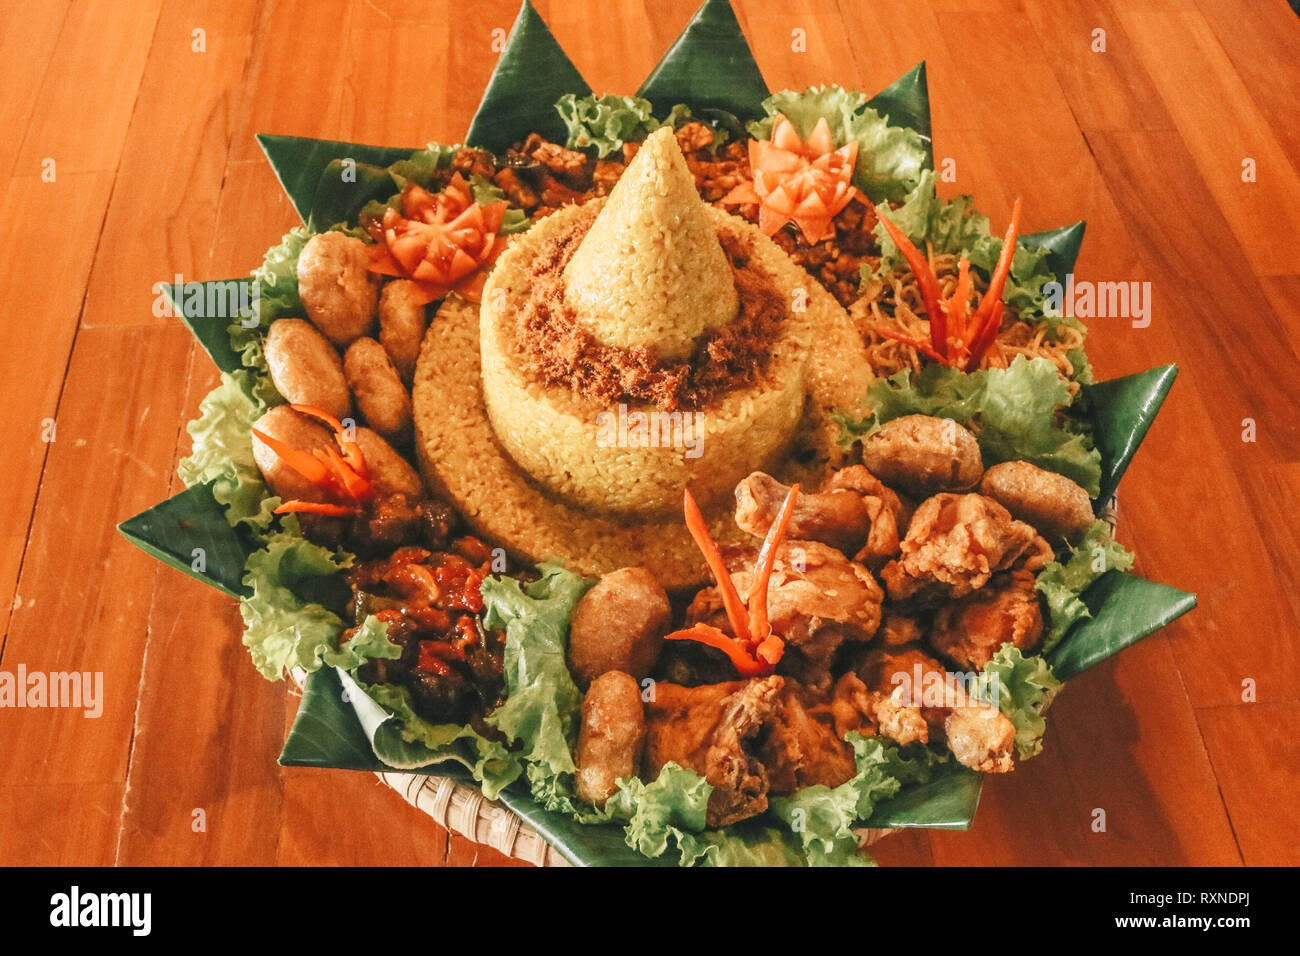nasi_tumpeng: (242, 92, 1095, 826)
